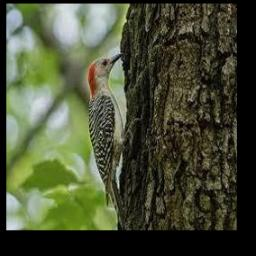Woodpecker: (88, 52, 142, 222)
